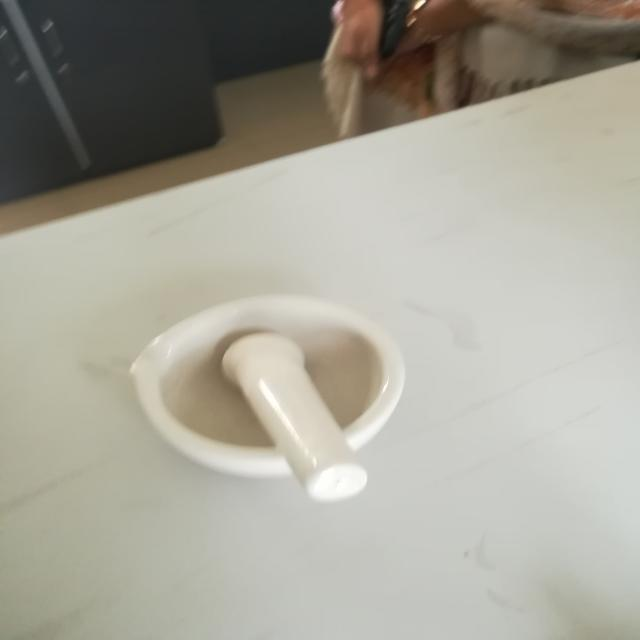Porcelain_Mortar Pestle: (101, 277, 438, 534)
